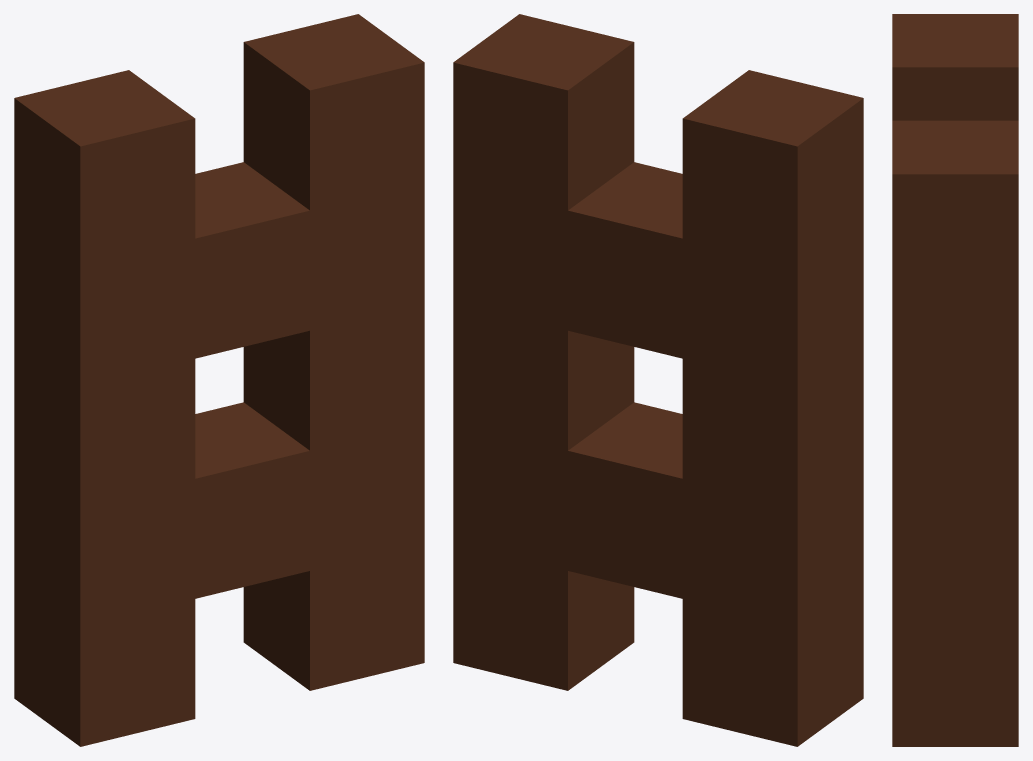
File: Ladder.obj
3 views of the same model, side by side, from view 1: azimuth 30°, elevation 25°; view 2: azimuth 150°, elevation 25°; view 3: azimuth 270°, elevation 25° (orthographic). The views are drawn at different scales.
Parts seen in each view (by area): view 1: Ladder; view 2: Ladder; view 3: Ladder.
Boxes of the visible parts, x1=… form: Ladder: x1=14, y1=14, x2=424, y2=746; Ladder: x1=453, y1=14, x2=863, y2=746; Ladder: x1=892, y1=14, x2=1018, y2=746.
Size of the model in its own units: 3 by 5 by 1.
1 material, 1 textured.
